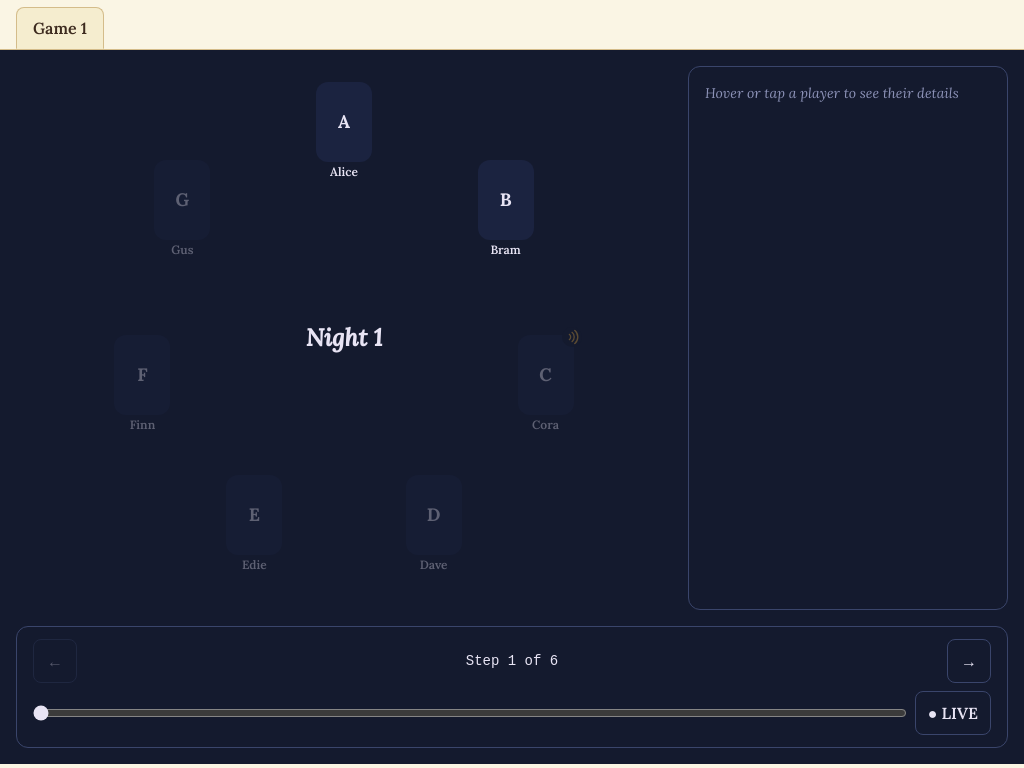
beats › morning marks the victim dead with a role badge
Click the button named "Next": (969, 661) [947,639,991,683]
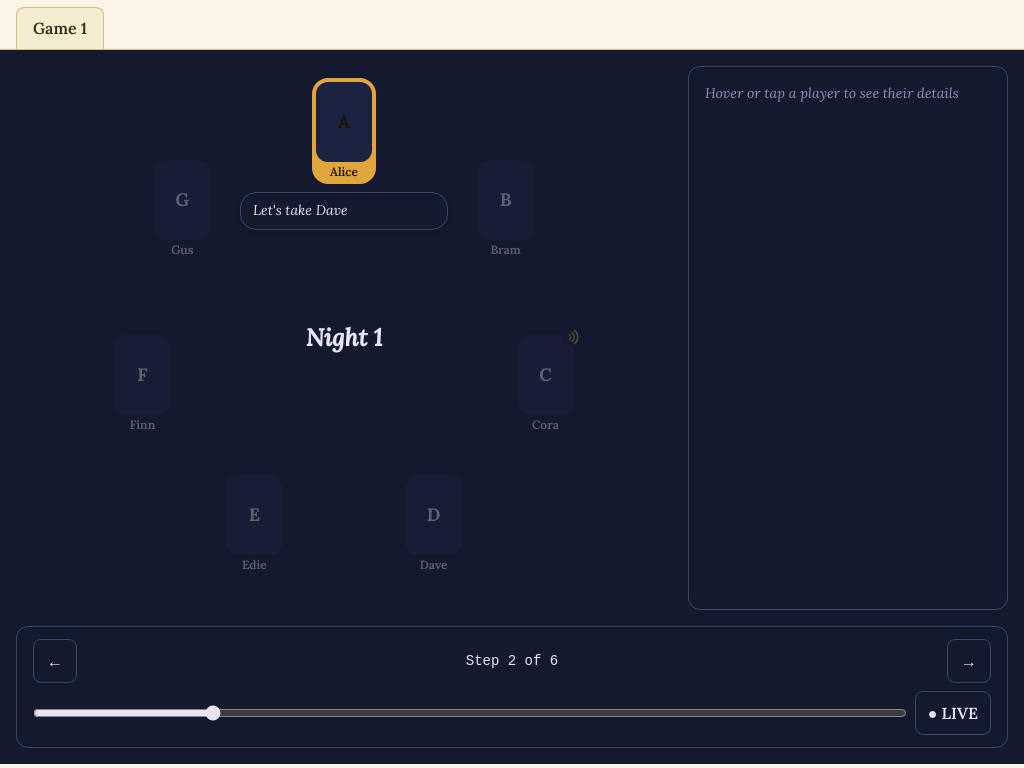
Click the button named "Next": (969, 661) [947,639,991,683]
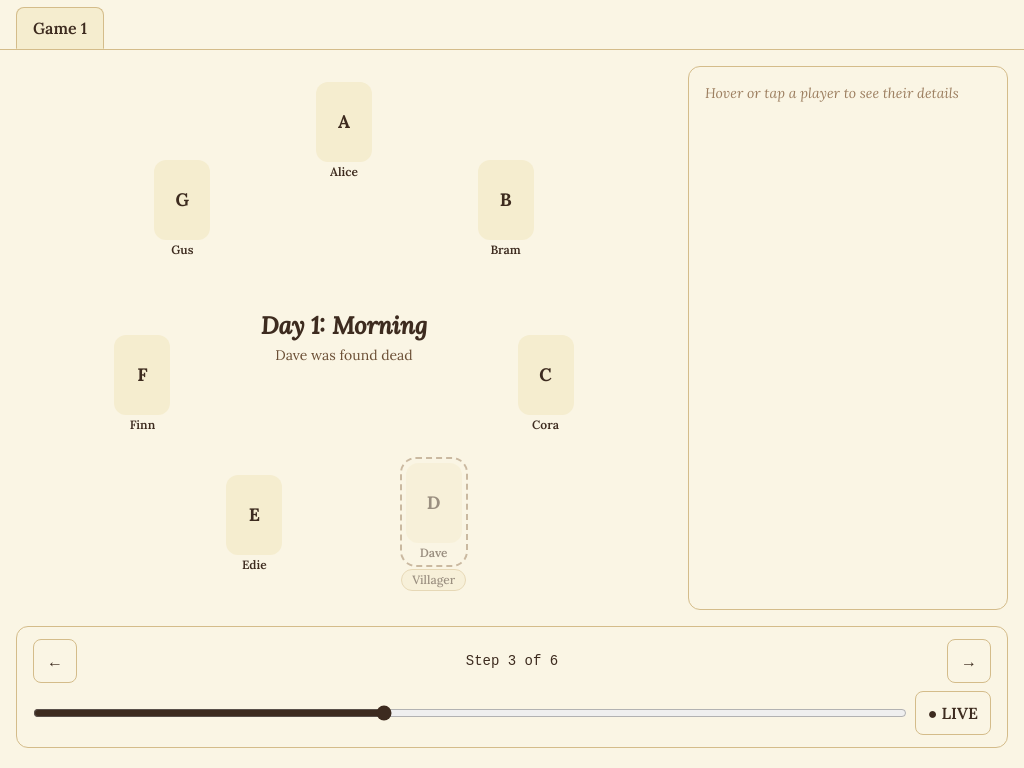
Expected: the text "villager" is shown, [401,569,466,591]
